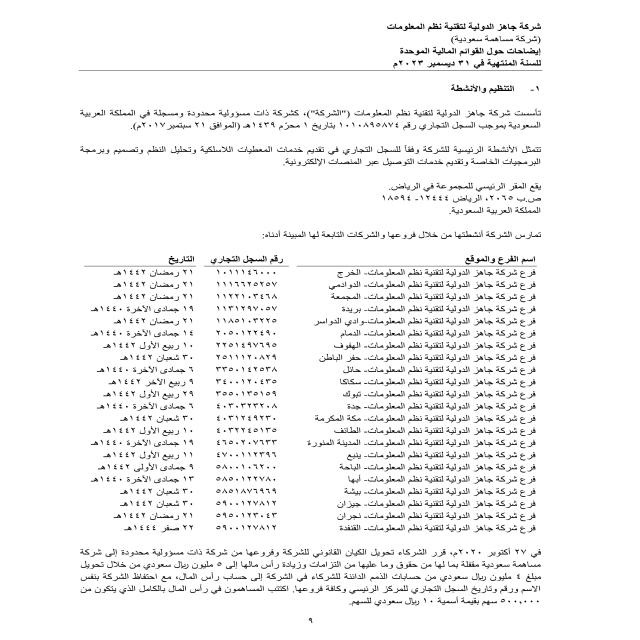notes: (382, 46, 547, 57)
table: (45, 242, 562, 544)
